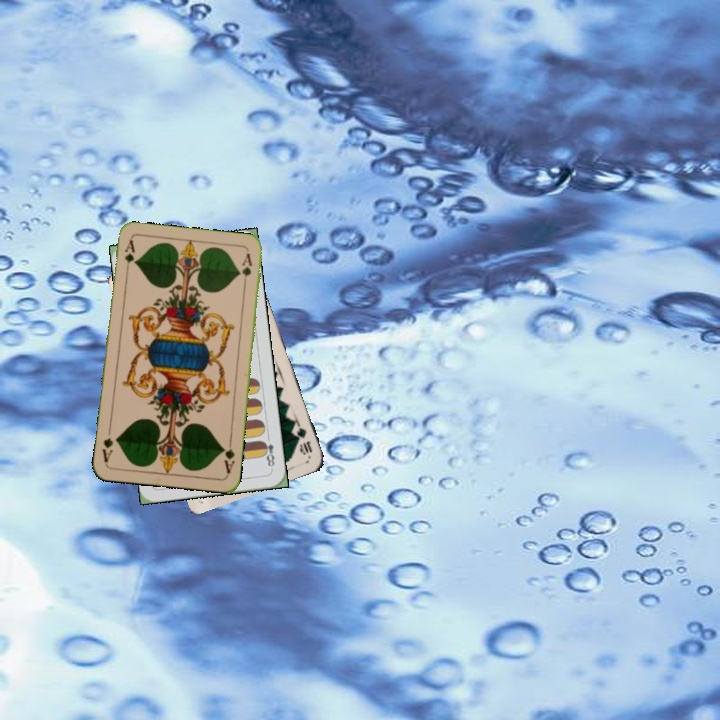E8: (258, 431, 277, 472)
G10: (290, 419, 315, 457)
GA: (218, 436, 237, 476), (120, 236, 138, 277)
